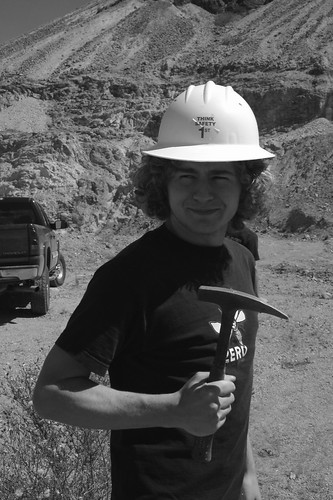person hardhat: (77, 79, 316, 500)
